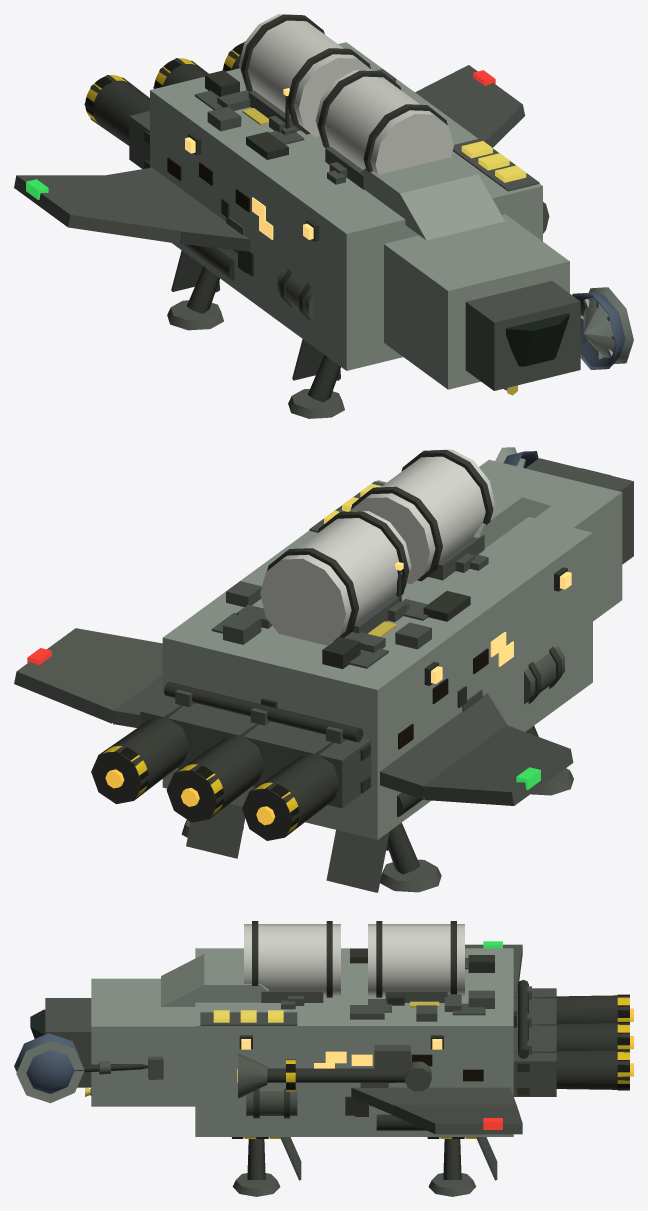
The model's file is tender-s(1).glb.
3 renders of one model, top to bottom at view 1: azimuth 30°, elevation 25°; view 2: azimuth 150°, elevation 25°; view 3: azimuth 270°, elevation 25°, orthographic. The views are drawn at different scales.
Parts seen in each view (by area): view 1: hullMain, hullNose, bowserTank0, hullNoseTip, canopyFairing, bowserTank1, wingOuterLeft, wingInnerLeft, wingOuterRight, engineHousing (×2), gearFoot (×2), cockpitGlass (+18 smaller); view 2: hullMain, engineHousing (×3), bowserTank1, wingOuterRight, bowserTank0, engineBayExtension, hullNose, wingOuterLeft, wingInnerLeft, gearBayDoor (×2), propellantHeader, hullNoseTip (+16 smaller); view 3: hullMain, hullNose, engineHousing (×3), bowserTank1, bowserTank0, canopyFairing, engineBayExtension, wingOuterRight, wingInnerRight, hullNoseTip, commDish, refuelBoom (+21 smaller).
Boxes of the visible parts, x1,y1,x2,y2 form: hullMain: [150, 42, 542, 370]; hullNose: [384, 214, 569, 389]; bowserTank0: [315, 70, 453, 174]; hullNoseTip: [465, 281, 580, 390]; canopyFairing: [360, 155, 504, 240]; bowserTank1: [239, 14, 372, 136]; wingOuterLeft: [14, 175, 180, 243]; wingInnerLeft: [105, 167, 250, 251]; wingOuterRight: [415, 65, 525, 147]; engineHousing (×2): [84, 58, 208, 145]; gearFoot (×2): [167, 300, 344, 418]; cockpitGlass: [505, 313, 569, 366]; hullMain: [162, 480, 592, 839]; engineHousing (×3): [91, 705, 340, 840]; bowserTank1: [260, 511, 411, 645]; wingOuterRight: [14, 628, 162, 723]; bowserTank0: [349, 449, 495, 584]; engineBayExtension: [140, 694, 371, 808]; hullNose: [479, 459, 622, 621]; wingOuterLeft: [422, 725, 573, 805]; wingInnerLeft: [380, 693, 506, 799]; gearBayDoor (×2): [186, 804, 389, 892]; propellantHeader: [164, 682, 363, 742]; hullNoseTip: [525, 458, 633, 564]; hullMain: [195, 948, 513, 1136]; hullNose: [91, 978, 195, 1106]; engineHousing (×3): [514, 995, 629, 1089]; bowserTank1: [368, 924, 464, 995]; bowserTank0: [244, 924, 340, 995]; canopyFairing: [161, 954, 268, 1006]; engineBayExtension: [513, 988, 556, 1096]; wingOuterRight: [392, 1104, 522, 1134]; wingInnerRight: [351, 1087, 516, 1114]; hullNoseTip: [45, 998, 91, 1087]; commDish: [14, 1033, 82, 1093]; refuelBoom: [267, 1068, 406, 1082].
Bounding box in the file's own units: 3.49 × 2.04 × 5.06.
